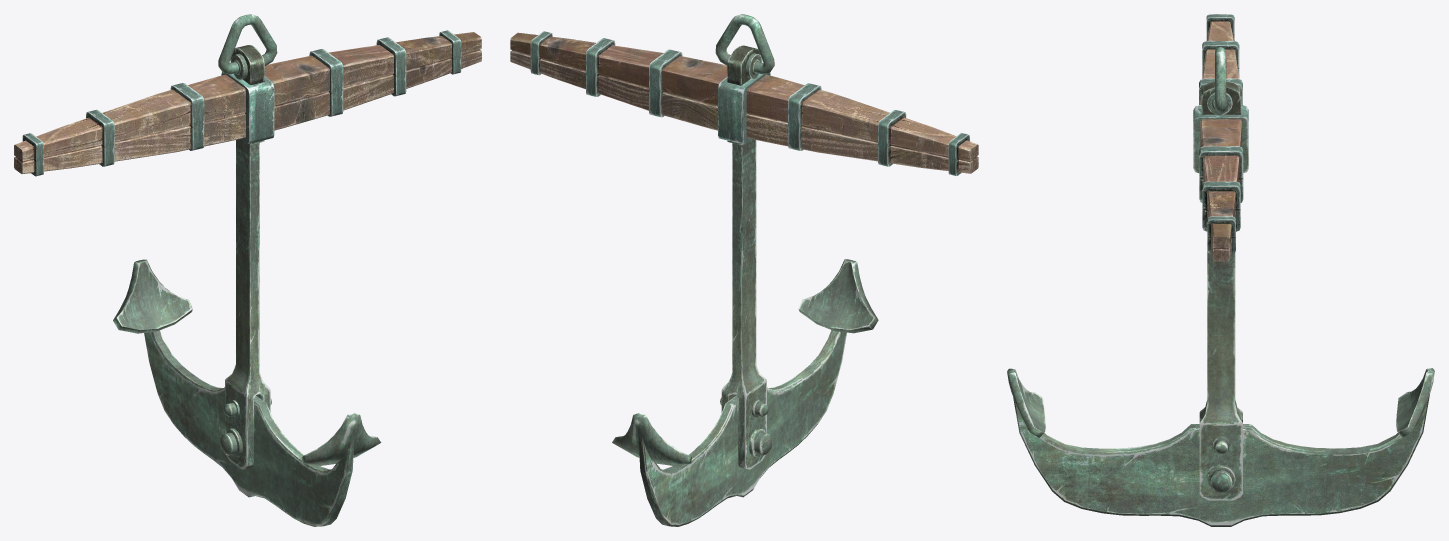
The picture shows the model from 3 angles, left to right: view 1: azimuth 30°, elevation 25°; view 2: azimuth 150°, elevation 25°; view 3: azimuth 270°, elevation 25°; orthographic projection.
Parts seen in each view (by area): view 1: Anchor3; view 2: Anchor3; view 3: Anchor3.
Boxes of the visible parts, x1,y1,x2,y2 form: Anchor3: (14, 14, 481, 526); Anchor3: (510, 14, 978, 526); Anchor3: (1007, 14, 1434, 526).
Bounding box in the file's own units: 3.88 × 3.14 × 3.85.
1 material, 1 textured.
